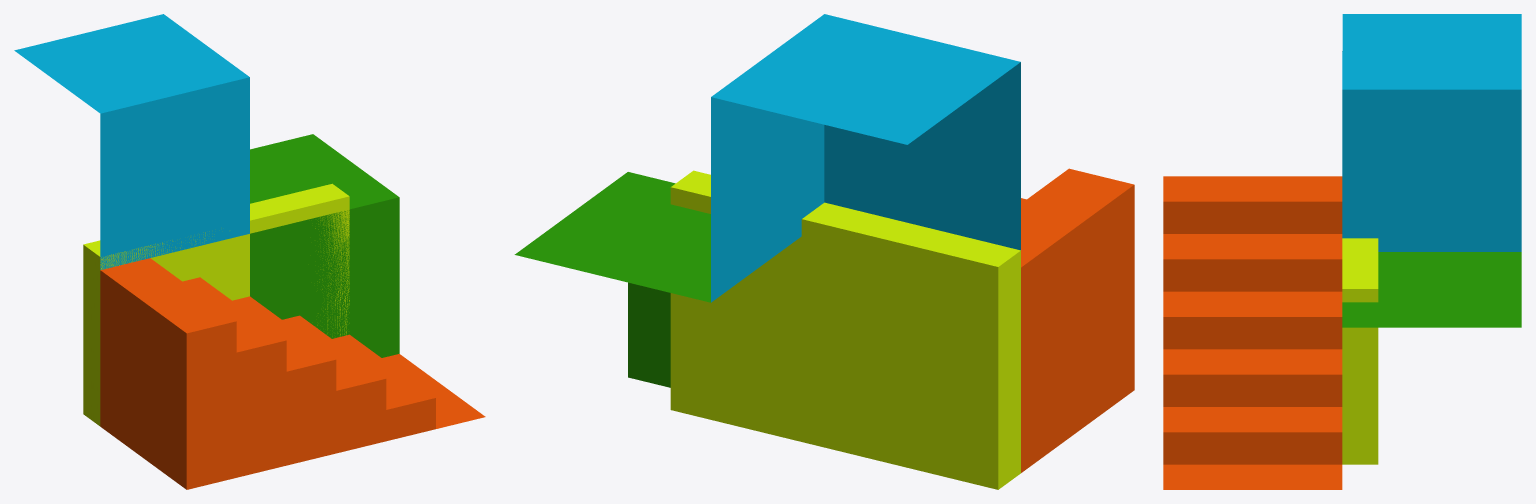
3 renders of one model, left to right at view 1: azimuth 30°, elevation 25°; view 2: azimuth 150°, elevation 25°; view 3: azimuth 270°, elevation 25°, orthographic. The views are drawn at different scales.
Parts seen in each view (by area): view 1: T_27_2_0; view 2: T_27_2_0; view 3: T_27_2_0.
Boxes of the visible parts, x1=… form: T_27_2_0: x1=14, y1=14, x2=485, y2=489; T_27_2_0: x1=514, y1=14, x2=1134, y2=489; T_27_2_0: x1=1163, y1=14, x2=1521, y2=489.
Size of the model in its own units: 99.79 by 99.81 by 99.81.
